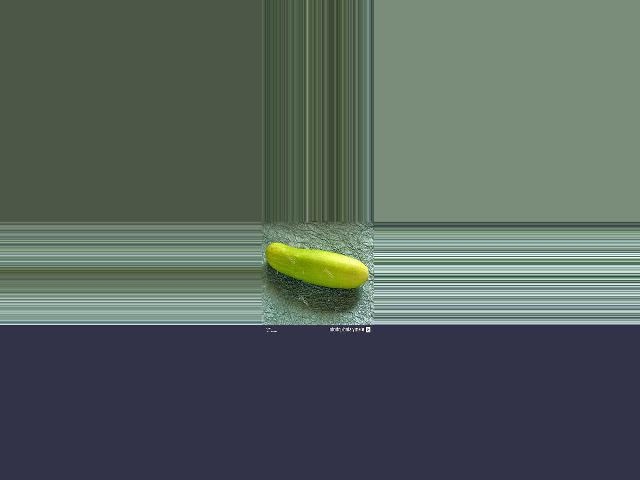cucumber: (264, 242, 368, 288)
